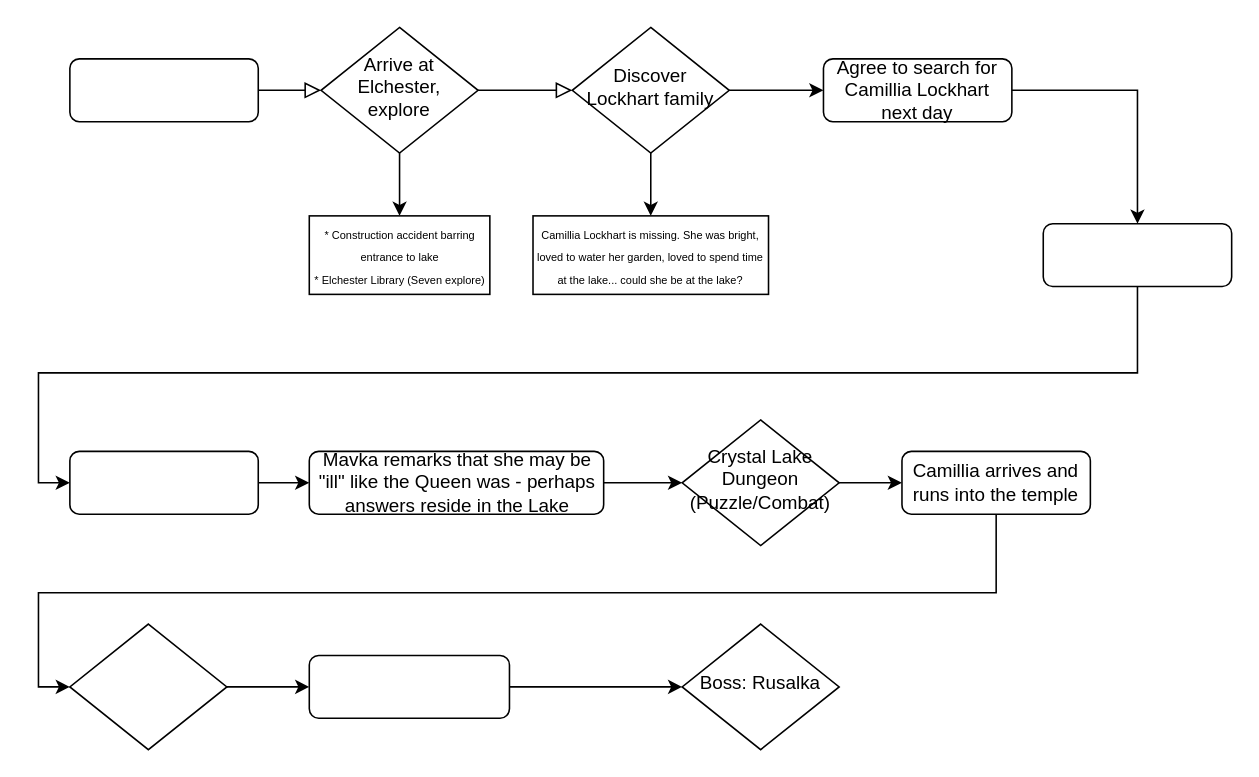
Some shapes in this 1259 by 777 pixel diagram are drawn without their labels. The box of each missing label's shape, as (x1, y1, x2, y2) in pixels:
Camillia returns, reveals that she burned down the tree: (68, 450, 258, 514)
Crystal Lake Dungeon II (Puzzle/Combat): (68, 623, 227, 750)
Rusalka kills Camillia to gain physical form: (308, 654, 509, 718)
Sleep at Inn, have Envy Dream: (1042, 222, 1232, 287)
Sovereign sends to Elchester: (68, 57, 258, 122)
